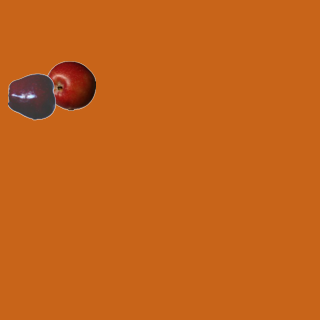Apple Braeburn: (45, 60, 95, 110)
Apple Red Delicious: (7, 71, 57, 121)
